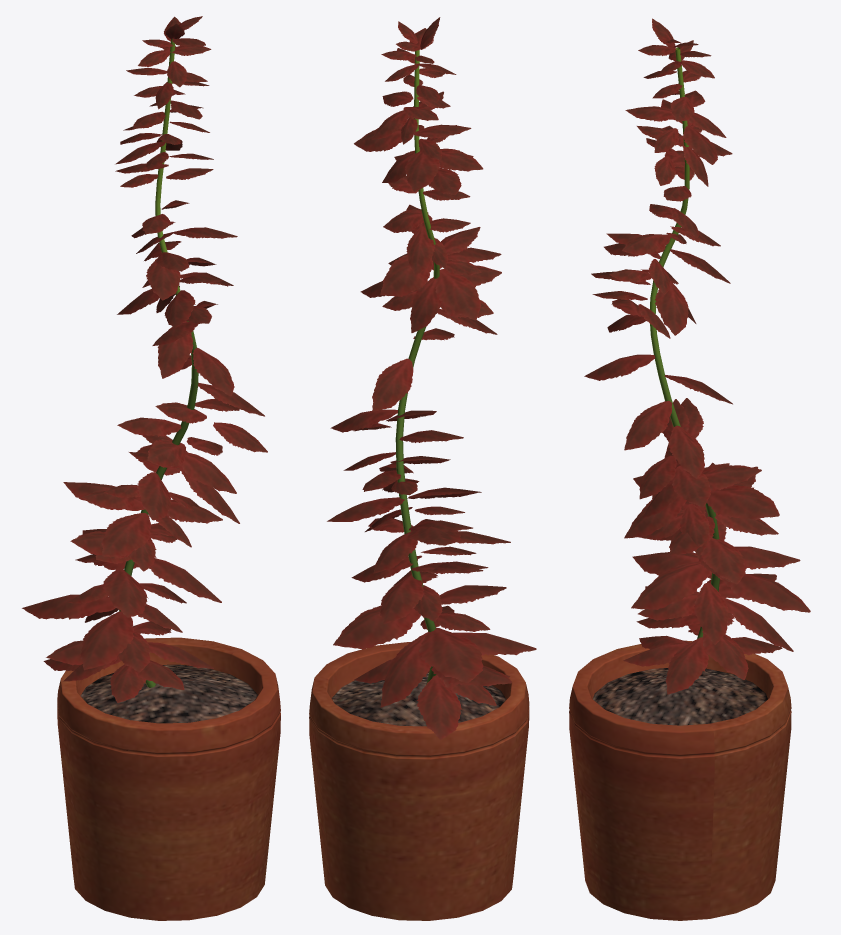
Rendered from plant1.fbx.
3 views of the same model, side by side, from view 1: azimuth 30°, elevation 25°; view 2: azimuth 150°, elevation 25°; view 3: azimuth 270°, elevation 25° (orthographic).
Visible parts, largest first — view 1: plant1, leaves_reversed; view 2: plant1, leaves_reversed; view 3: plant1, leaves_reversed.
Boxes of the visible parts, x1=… form: plant1: x1=22, y1=16, x2=280, y2=920; leaves_reversed: x1=25, y1=17, x2=267, y2=702; plant1: x1=309, y1=17, x2=536, y2=920; leaves_reversed: x1=329, y1=19, x2=534, y2=738; plant1: x1=569, y1=18, x2=810, y2=920; leaves_reversed: x1=589, y1=20, x2=809, y2=693.
Bounding box in the file's own units: 27.14 × 103 × 28.1.
